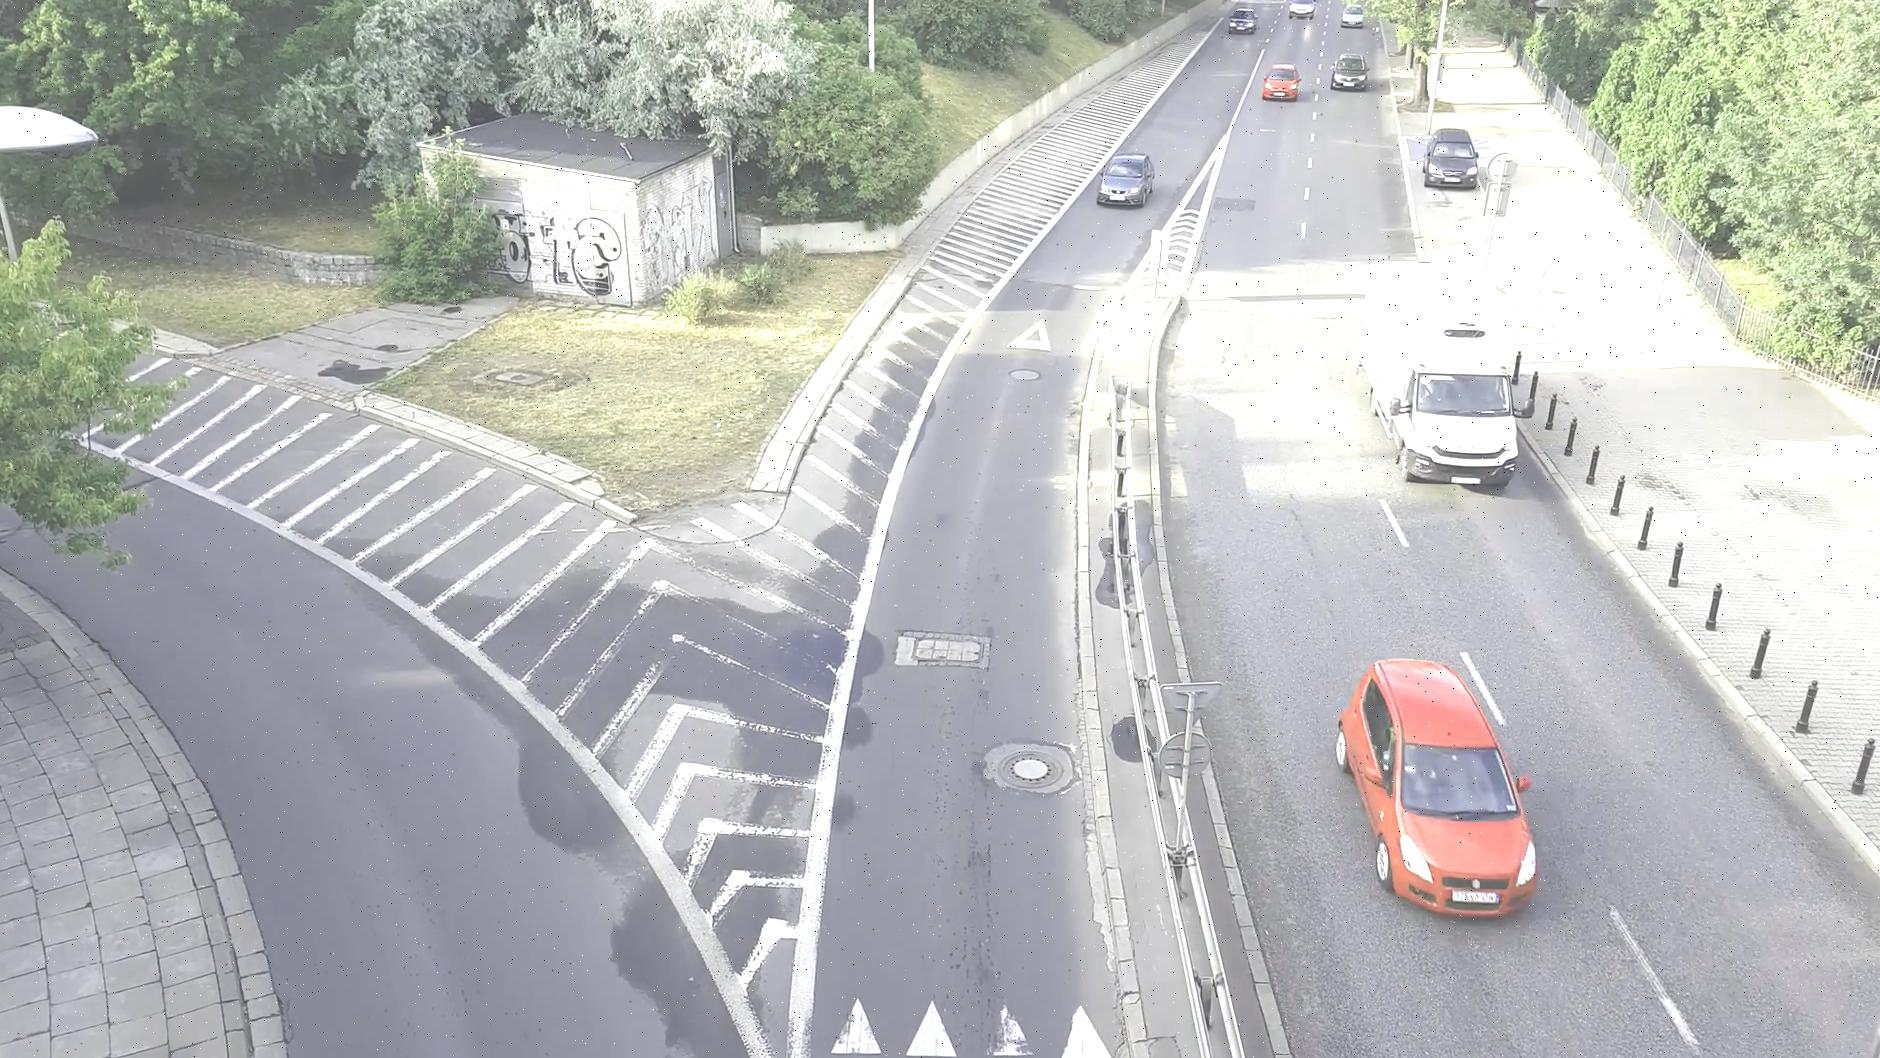car: (1312, 658, 1551, 926), (1414, 124, 1486, 195), (1094, 143, 1161, 212), (1331, 47, 1370, 89), (1263, 61, 1299, 101), (1225, 0, 1259, 37)
truck: (1334, 239, 1534, 503)
